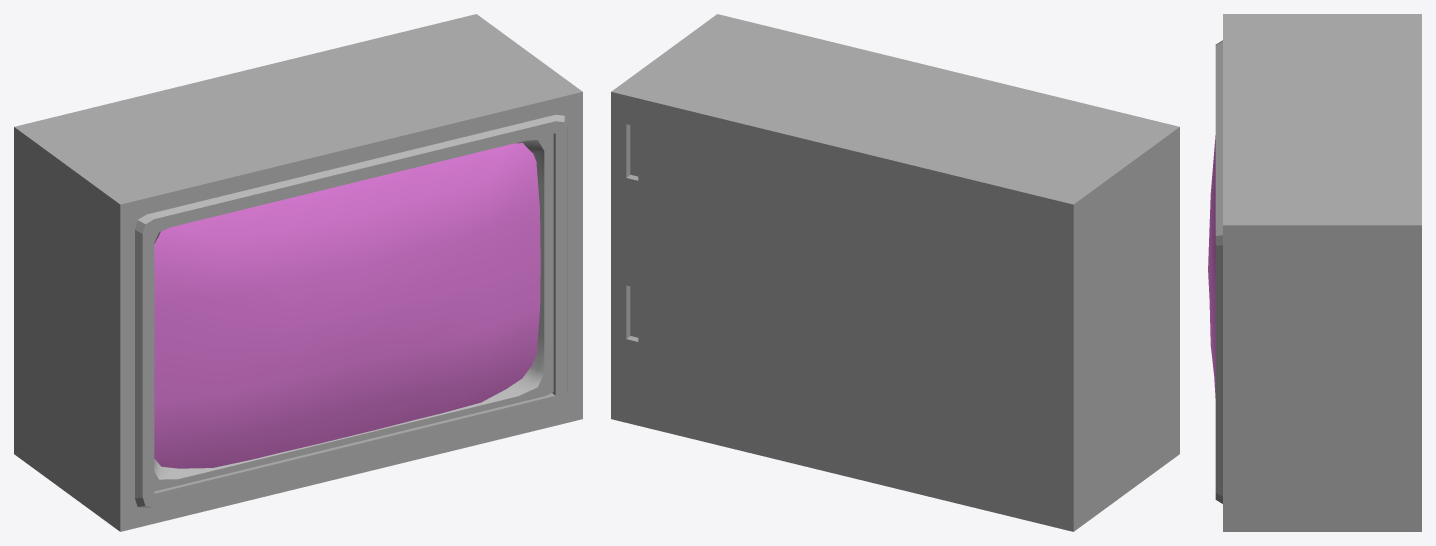
3 renders of one model, left to right at view 1: azimuth 30°, elevation 25°; view 2: azimuth 150°, elevation 25°; view 3: azimuth 270°, elevation 25°, orthographic. The views are drawn at different scales.
Parts seen in each view (by area): view 1: tv00, tv01, tv02; view 2: tv00; view 3: tv00, tv01.
Part boxes in pixels (left/top/right/bottom): tv00: left=14, top=14, right=582, bottom=531; tv01: left=154, top=143, right=540, bottom=468; tv02: left=154, top=134, right=553, bottom=491; tv00: left=611, top=14, right=1179, bottom=531; tv00: left=1215, top=14, right=1421, bottom=531; tv01: left=1208, top=135, right=1215, bottom=397.
Size of the model in its own units: 68.24 by 29.19 by 46.15.
